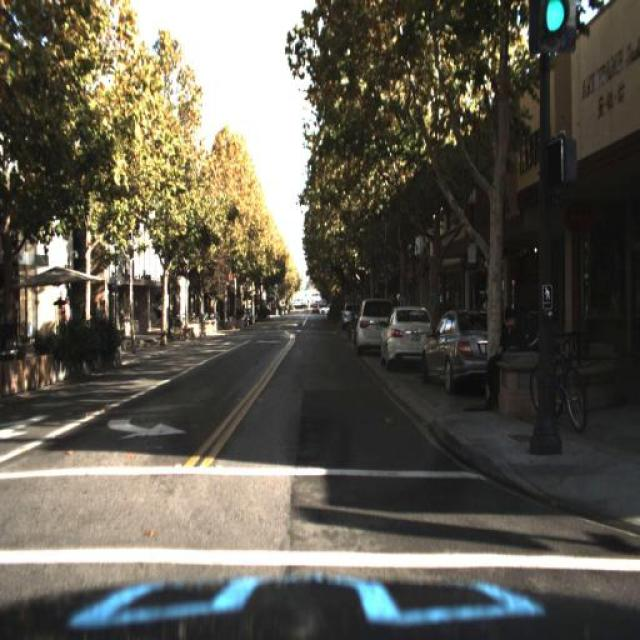car: (419, 308, 490, 389), (380, 308, 435, 370), (354, 298, 397, 348)
trafficLight: (484, 303, 528, 409), (92, 298, 103, 334), (61, 296, 70, 336)
